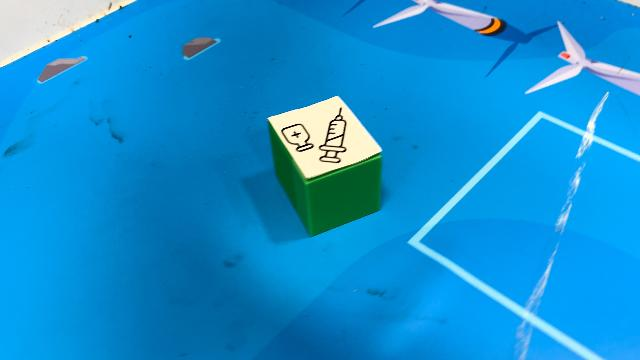syringe: (268, 95, 382, 237)
